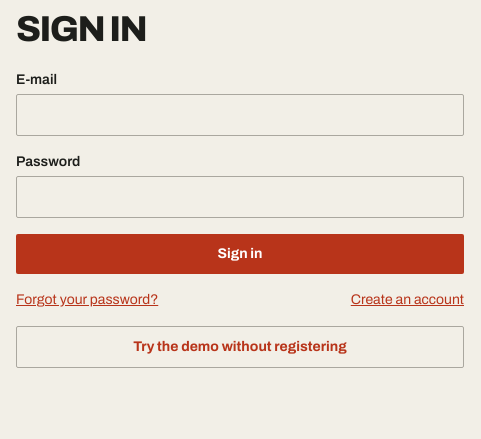
Test: login › shows the rate-limit message on 429
Step 1. Type "max@example.com" into the field labelled "E-mail" → (240, 115), box [16,94,464,136]
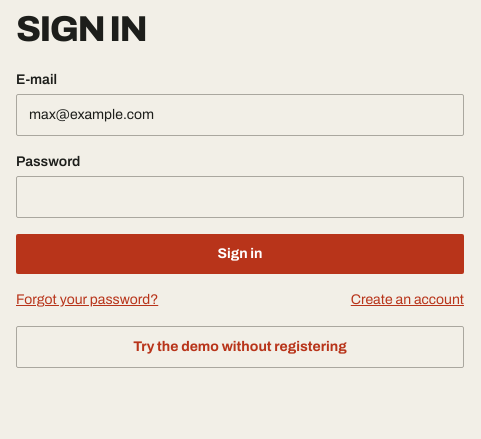
Step 2. Type "hunter2hunter2" into the password field labelled "Password" → (240, 197), box [16,176,464,218]
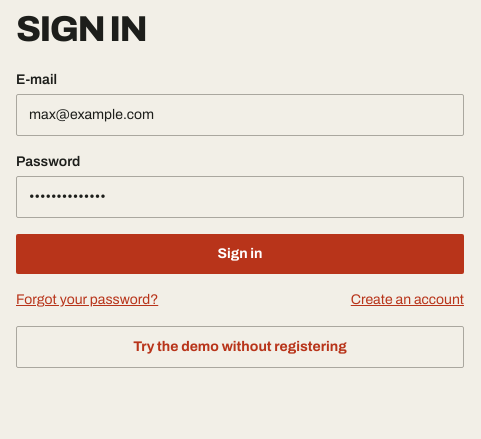
Step 3. Click the button "Sign in" → (240, 254), box [16,234,464,274]
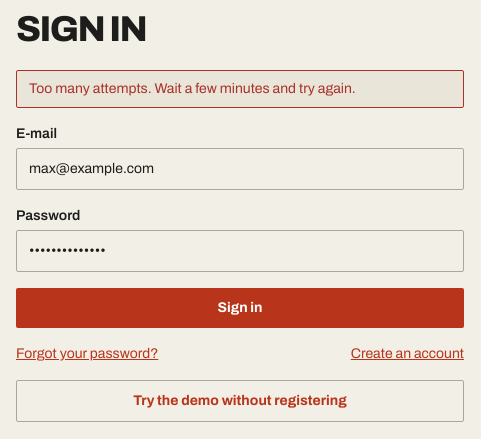
Check: the message shows "Too many attempts", box [29,81,356,96]
